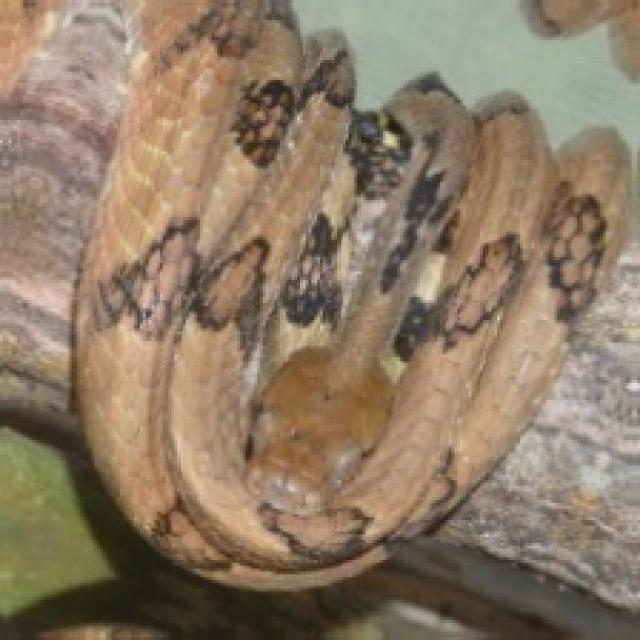dog-toothed cat snake: (0, 0, 626, 586)
